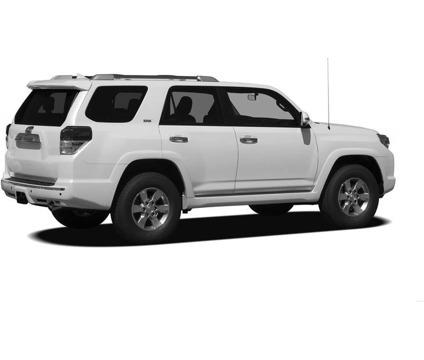car: (1, 71, 400, 246)
